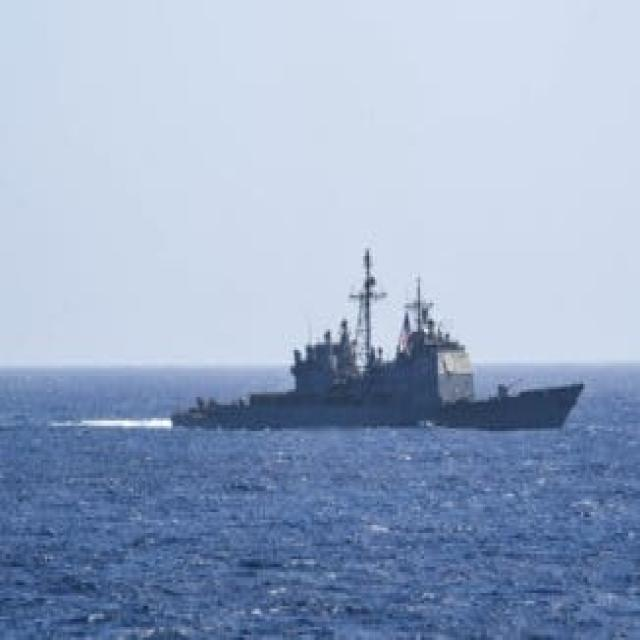navalvessels: (181, 223, 607, 451)
